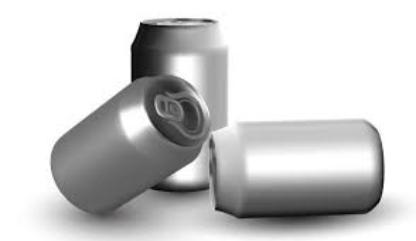Can: (50, 75, 211, 218), (130, 17, 231, 192), (211, 120, 383, 219)
